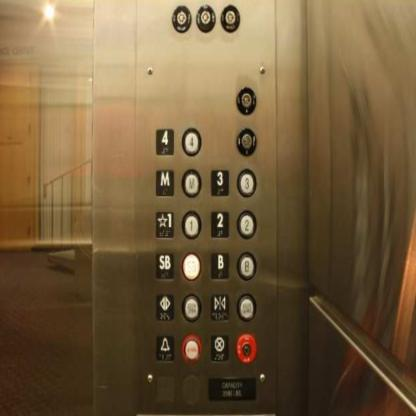1: (181, 208, 203, 240)
2: (236, 208, 258, 240), (209, 208, 230, 240)
3: (236, 167, 258, 200), (209, 167, 230, 198)
4: (181, 127, 202, 157), (154, 127, 174, 156)
B: (209, 250, 231, 281), (236, 250, 258, 280)
M: (179, 167, 203, 199), (154, 167, 175, 199)
SB: (154, 250, 176, 281)
alarm: (154, 333, 176, 363)
blur: (235, 292, 257, 323), (181, 333, 203, 363), (181, 293, 201, 323)
close: (209, 291, 231, 323)
keyhole: (220, 3, 242, 36), (236, 332, 257, 366), (195, 3, 217, 35), (171, 2, 192, 35), (236, 85, 257, 116), (236, 126, 257, 156)
open: (154, 292, 176, 323)
s1: (154, 209, 174, 238)
stop: (210, 332, 231, 364)
text_blur: (180, 250, 202, 281)
